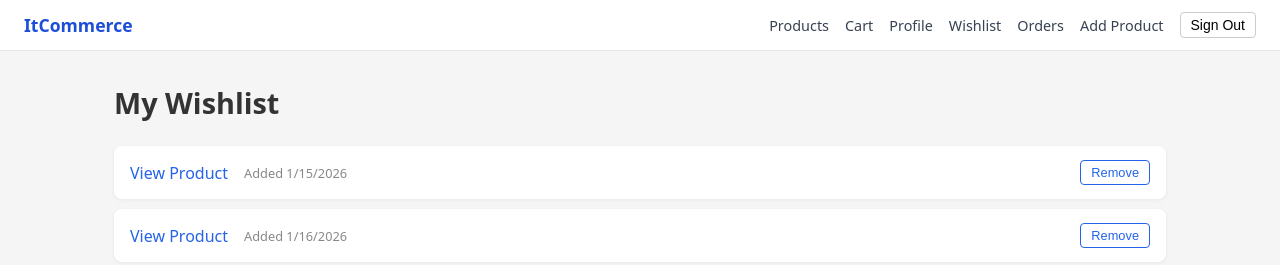
Test: Wishlist › removes item from list after clicking Remove
Click the button "Remove" in the row of "1/15/2026".
click(1115, 172)  # box top-left (1080, 160), bottom-right (1150, 185)
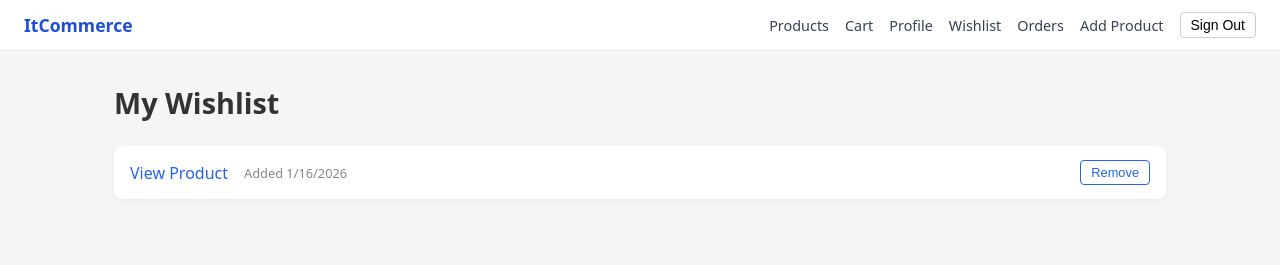
Result: the number of links "View Product" is 1 at top-left (130, 162), bottom-right (228, 184)
